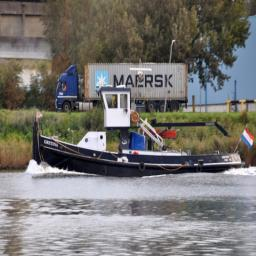tugboat: (31, 82, 248, 182)
